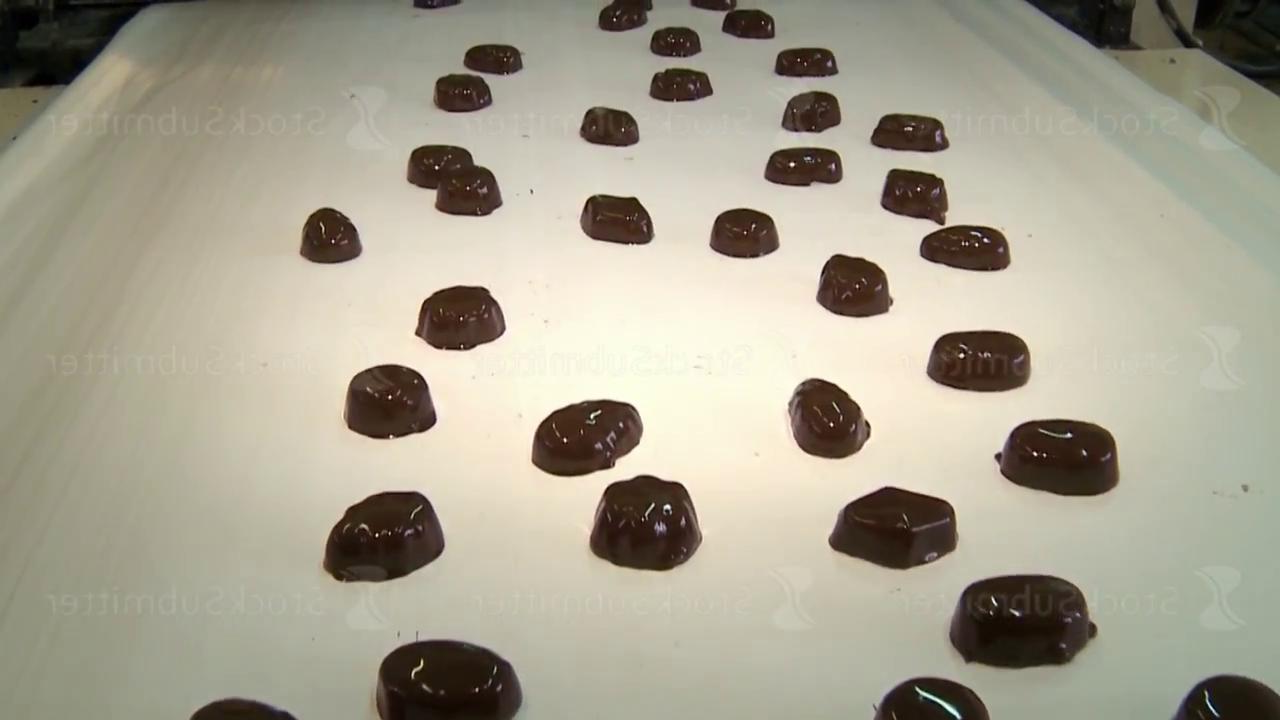chocolate: (950, 573, 1098, 668), (376, 638, 523, 718), (323, 490, 445, 582), (590, 474, 703, 570), (829, 485, 958, 569), (996, 418, 1120, 496), (532, 398, 644, 476), (344, 363, 437, 439), (788, 377, 871, 458), (927, 329, 1031, 391), (415, 284, 506, 350), (873, 676, 990, 719), (1172, 673, 1279, 719), (817, 254, 893, 317), (921, 224, 1011, 271), (581, 193, 654, 245), (881, 168, 948, 224), (710, 207, 779, 258), (300, 207, 362, 263), (436, 165, 502, 216), (765, 147, 843, 186), (872, 113, 949, 151), (407, 144, 473, 188), (190, 696, 298, 719), (782, 90, 841, 132), (580, 106, 639, 146), (434, 73, 492, 112), (650, 67, 713, 101), (775, 47, 838, 77), (465, 43, 523, 74), (598, 0, 652, 31), (722, 9, 775, 39), (651, 26, 702, 57)
